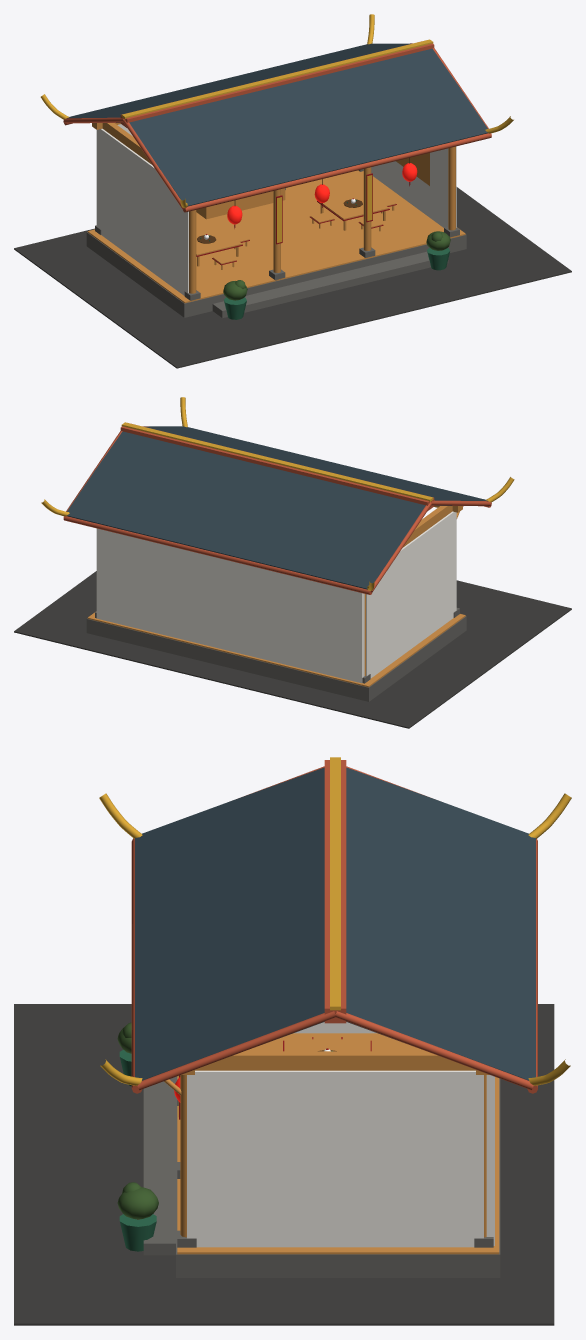
The model's file is tea-house.glb.
3 renders of one model, top to bottom at view 1: azimuth 30°, elevation 25°; view 2: azimuth 150°, elevation 25°; view 3: azimuth 270°, elevation 25°, orthographic. The views are drawn at different scales.
Visible parts, largest first — view 1: Mesh_RoofFront, Mesh_Street, Mesh_FloorWood, Mesh_WallRight, Mesh_Foundation, Mesh_RoofRear, Mesh_MainStep, Mesh_WallLeft, Mesh_RoofFrontTrim, Mesh_RoofRidge, Mesh_RoofRidgeGold, Mesh_CounterBase (+8 smaller); view 2: Mesh_RoofRear, Mesh_WallBack, Mesh_Street, Mesh_WallRight, Mesh_Foundation, Mesh_RoofFront, Mesh_RoofRidge, Mesh_RoofRearTrim, Mesh_RoofRidgeGold, Mesh_FloorWood, Mesh_BeamSide_R, Mesh_RidgeRR; view 3: Mesh_Street, Mesh_WallLeft, Mesh_RoofRear, Mesh_RoofFront, Mesh_Foundation, Mesh_FloorWood, Mesh_MainStep, Mesh_BeamSide_L, Mesh_RoofRidge, Mesh_RoofRidgeGold, Mesh_RidgeFL, Mesh_RidgeRL (+6 smaller).
Part boxes in pixels (bbox=[...]): Mesh_RoofFront: bbox=[129, 48, 487, 206]; Mesh_Street: bbox=[14, 187, 571, 368]; Mesh_FloorWood: bbox=[87, 170, 465, 303]; Mesh_WallRight: bbox=[98, 128, 188, 295]; Mesh_Foundation: bbox=[86, 232, 466, 317]; Mesh_RoofRear: bbox=[67, 43, 411, 122]; Mesh_MainStep: bbox=[212, 251, 448, 317]; Mesh_WallLeft: bbox=[371, 146, 456, 227]; Mesh_RoofFrontTrim: bbox=[183, 133, 491, 212]; Mesh_RoofRidge: bbox=[120, 41, 434, 127]; Mesh_RoofRidgeGold: bbox=[121, 39, 433, 119]; Mesh_CounterBase: bbox=[196, 188, 285, 219]; Mesh_RoofRear: bbox=[67, 431, 425, 589]; Mesh_WallBack: bbox=[96, 528, 364, 683]; Mesh_Street: bbox=[14, 571, 571, 728]; Mesh_WallRight: bbox=[366, 511, 456, 678]; Mesh_Foundation: bbox=[86, 616, 466, 701]; Mesh_RoofFront: bbox=[144, 426, 487, 505]; Mesh_RoofRidge: bbox=[120, 423, 434, 511]; Mesh_RoofRearTrim: bbox=[63, 516, 371, 594]; Mesh_RoofRidgeGold: bbox=[121, 422, 433, 501]; Mesh_FloorWood: bbox=[87, 612, 465, 687]; Mesh_BeamSide_R: bbox=[403, 506, 452, 547]; Mesh_RidgeRR: bbox=[371, 502, 431, 592]; Mesh_Street: bbox=[14, 1004, 554, 1325]; Mesh_WallLeft: bbox=[187, 1070, 483, 1247]; Mesh_RoofRear: bbox=[346, 767, 535, 1080]; Mesh_RoofFront: bbox=[135, 767, 324, 1080]; Mesh_Foundation: bbox=[176, 1076, 500, 1277]; Mesh_FloorWood: bbox=[177, 1033, 499, 1254]; Mesh_MainStep: bbox=[143, 1077, 175, 1255]; Mesh_BeamSide_L: bbox=[195, 1051, 475, 1070]; Mesh_RoofRidge: bbox=[324, 760, 346, 1023]; Mesh_RoofRidgeGold: bbox=[330, 757, 340, 1010]; Mesh_RidgeFL: bbox=[137, 1011, 335, 1090]; Mesh_RidgeRL: bbox=[335, 1011, 533, 1090].
Size of the model in its own units: 7 by 2.9 by 5.16.
